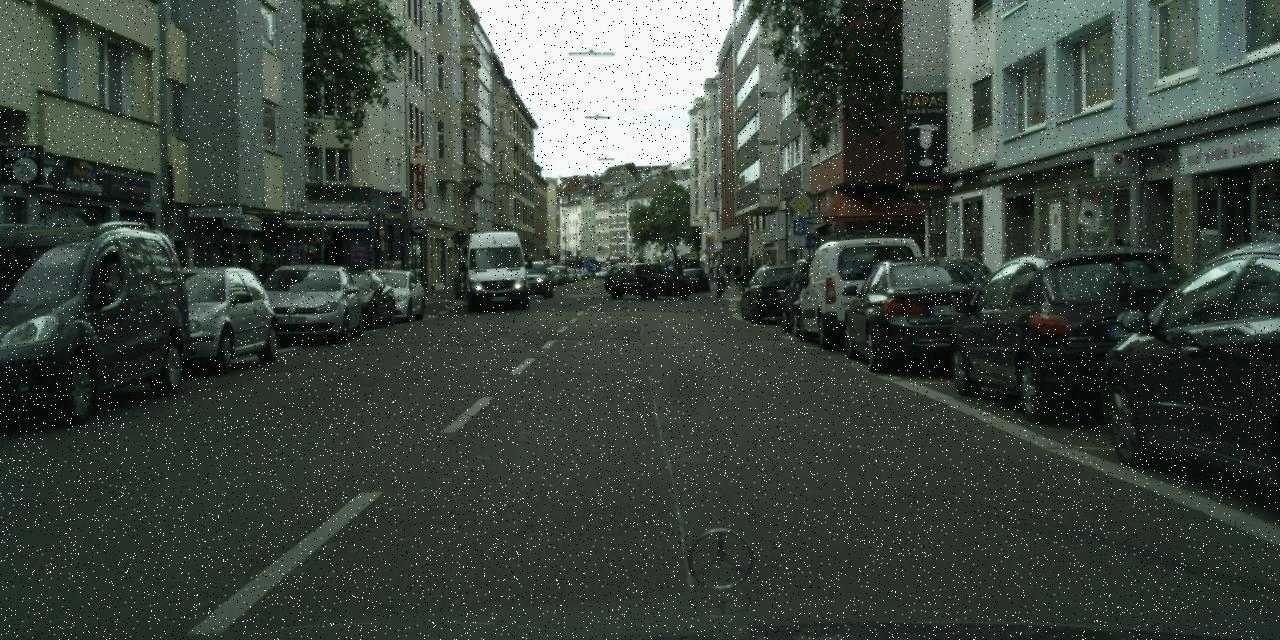ped: (352, 259, 370, 304), (711, 256, 729, 300), (764, 254, 778, 290), (744, 260, 758, 294), (752, 257, 766, 291), (731, 260, 743, 290), (722, 260, 732, 286), (709, 263, 717, 283)
